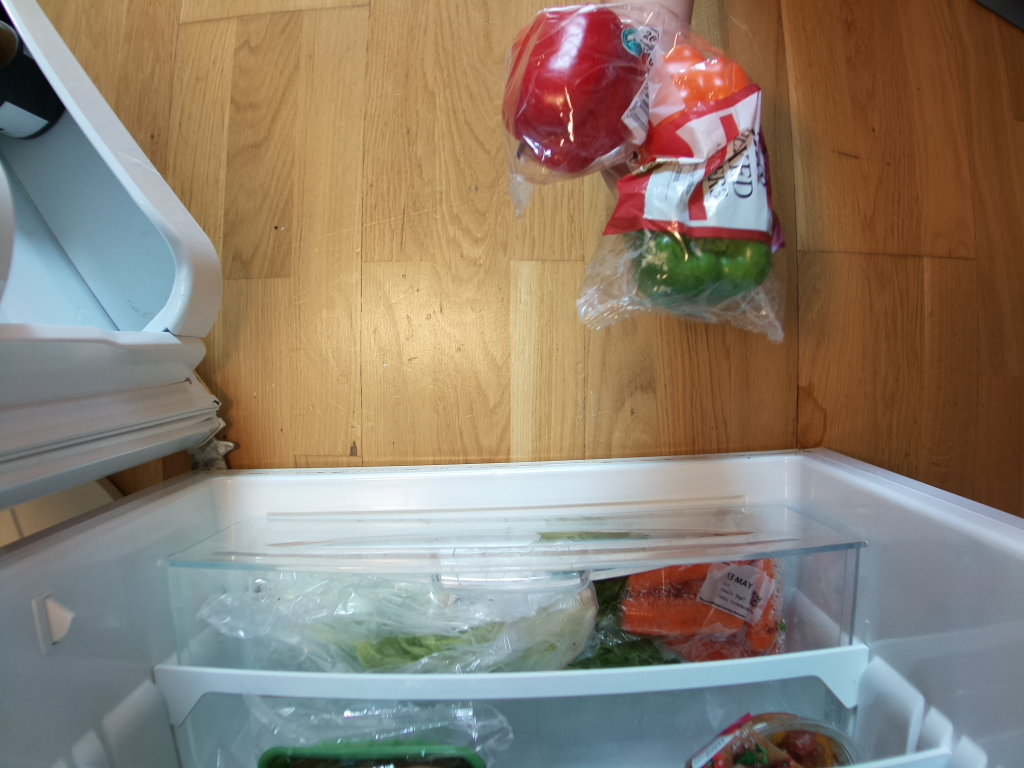pepper: (501, 6, 660, 173), (626, 227, 775, 312), (651, 39, 761, 153)
